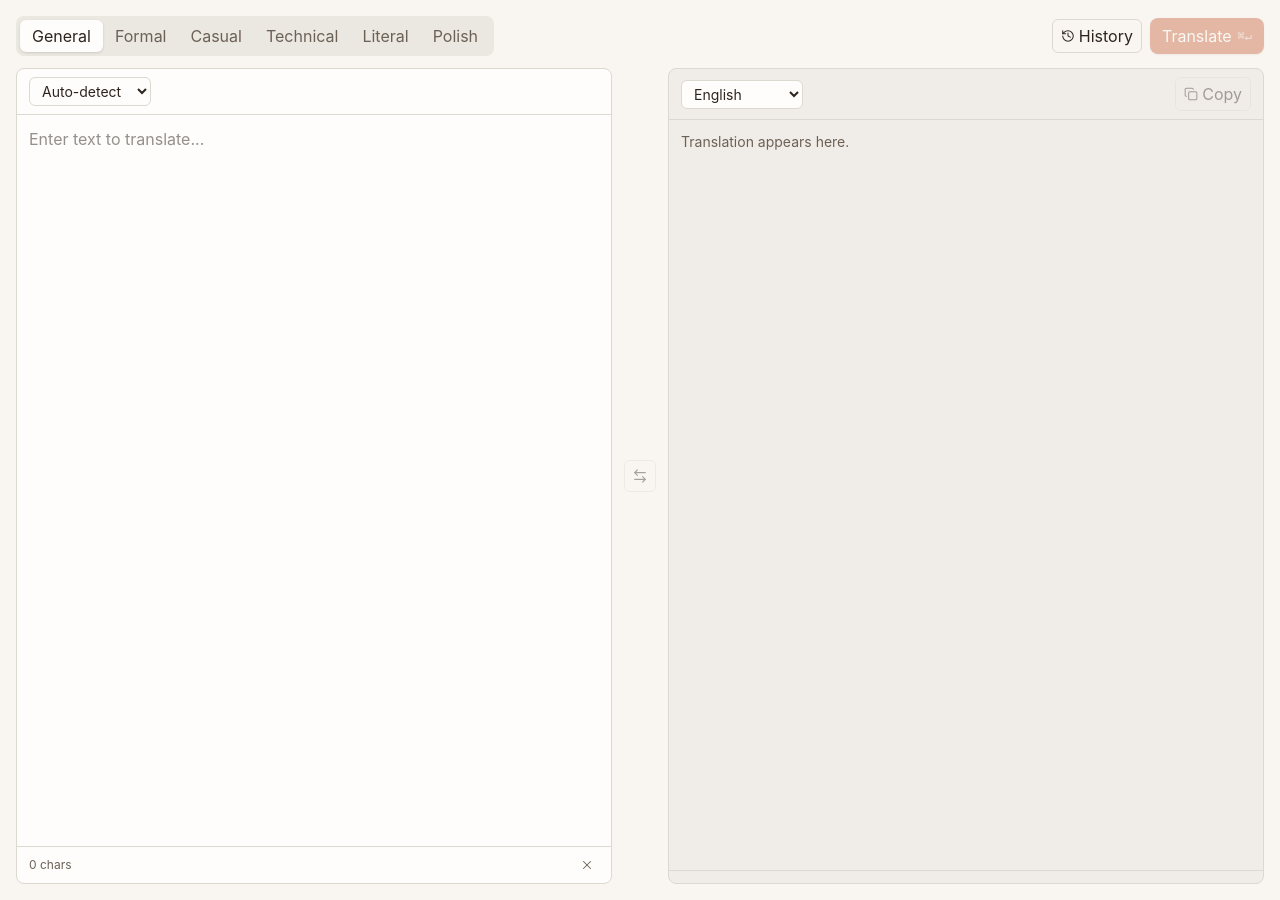
Test: TranslateTool › clear resets input and output
This screenshot has width=1280, height=900.
Type "你好" into the text box named "Translate input". click: [314, 480]
box: x1=17 y1=115 x2=611 y2=846
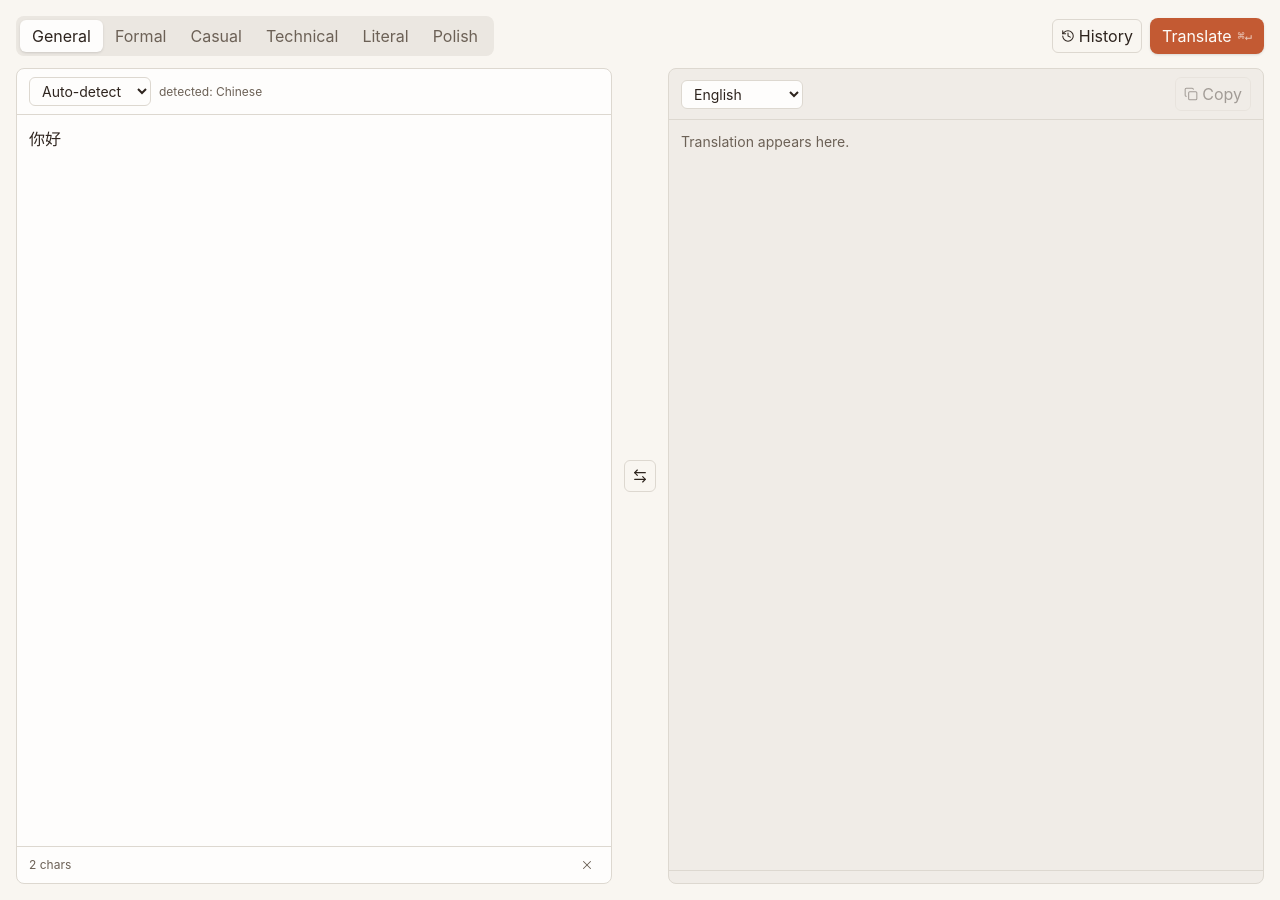
Click the button "Translate ⌘↵". click: [1207, 36]
box: x1=1150 y1=18 x2=1264 y2=54
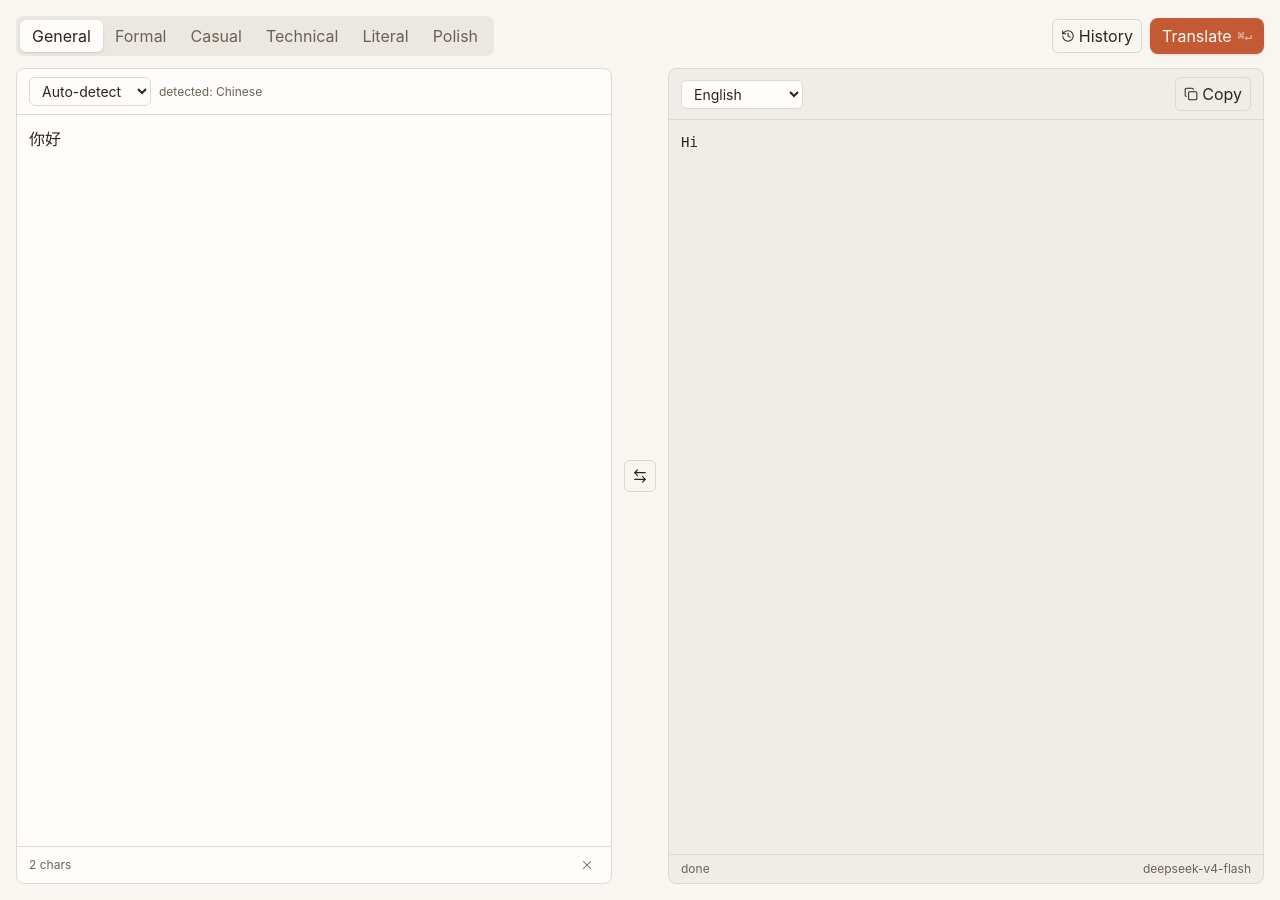
Now the text "Hi" is shown, box x1=681 y1=134 x2=698 y2=150
Click the button named "Clear". click: [587, 865]
box: x1=575 y1=853 x2=599 y2=877
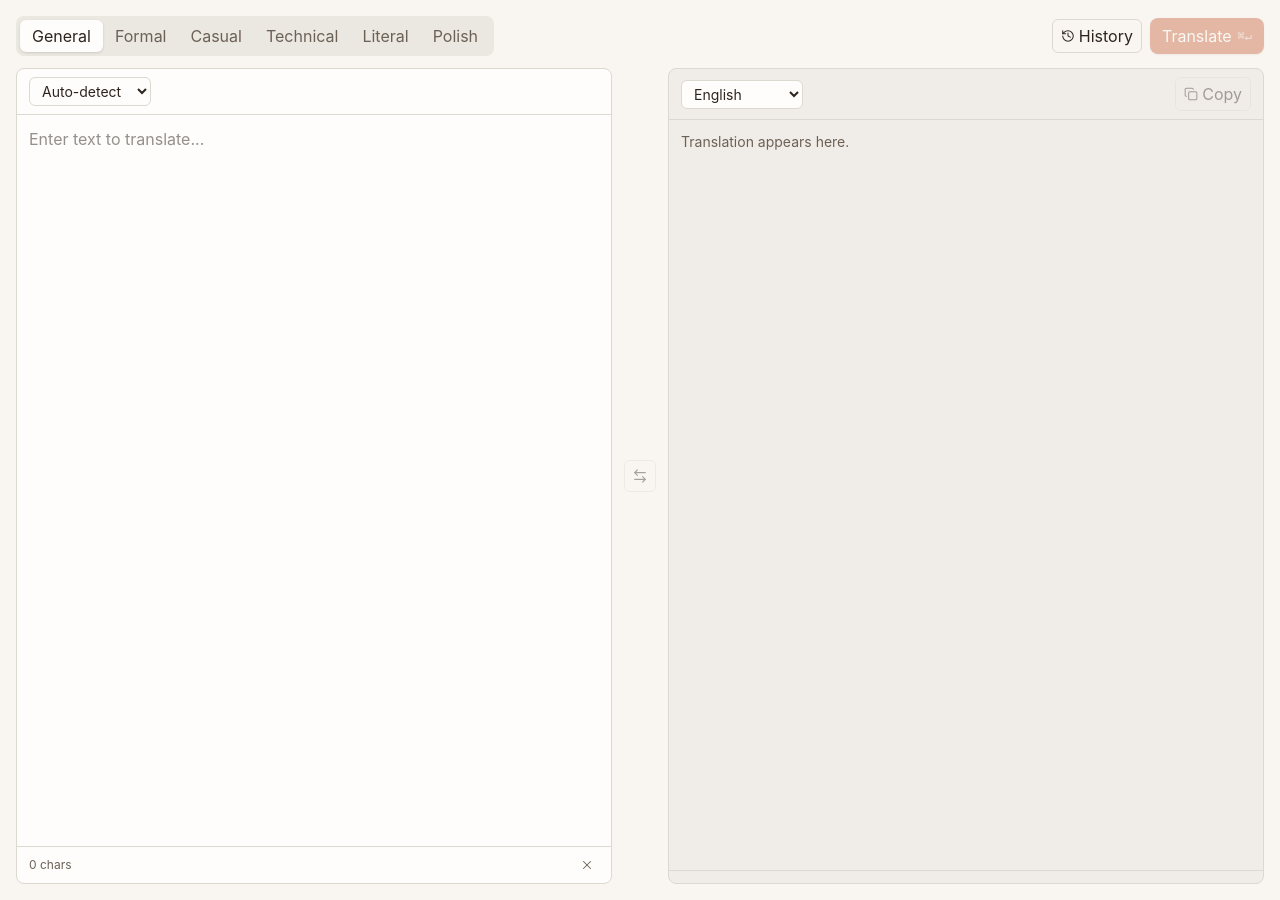
Now the text box named "Translate input" is empty, box x1=17 y1=115 x2=611 y2=846
